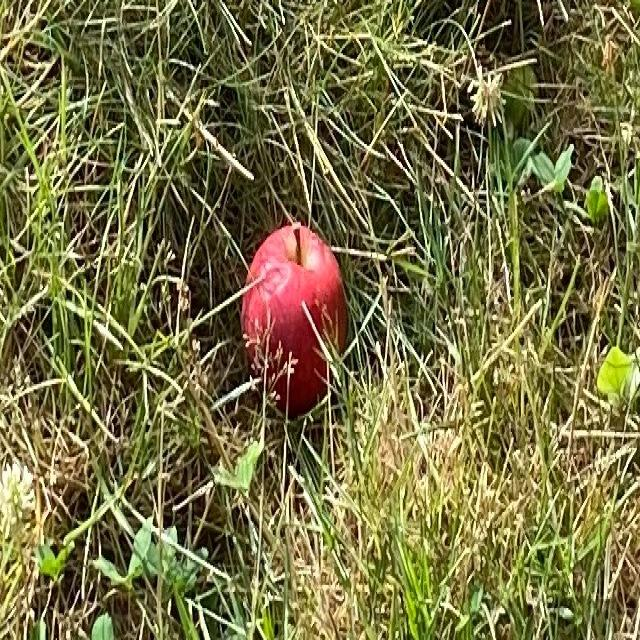100-_ripeness: (244, 224, 348, 409)
